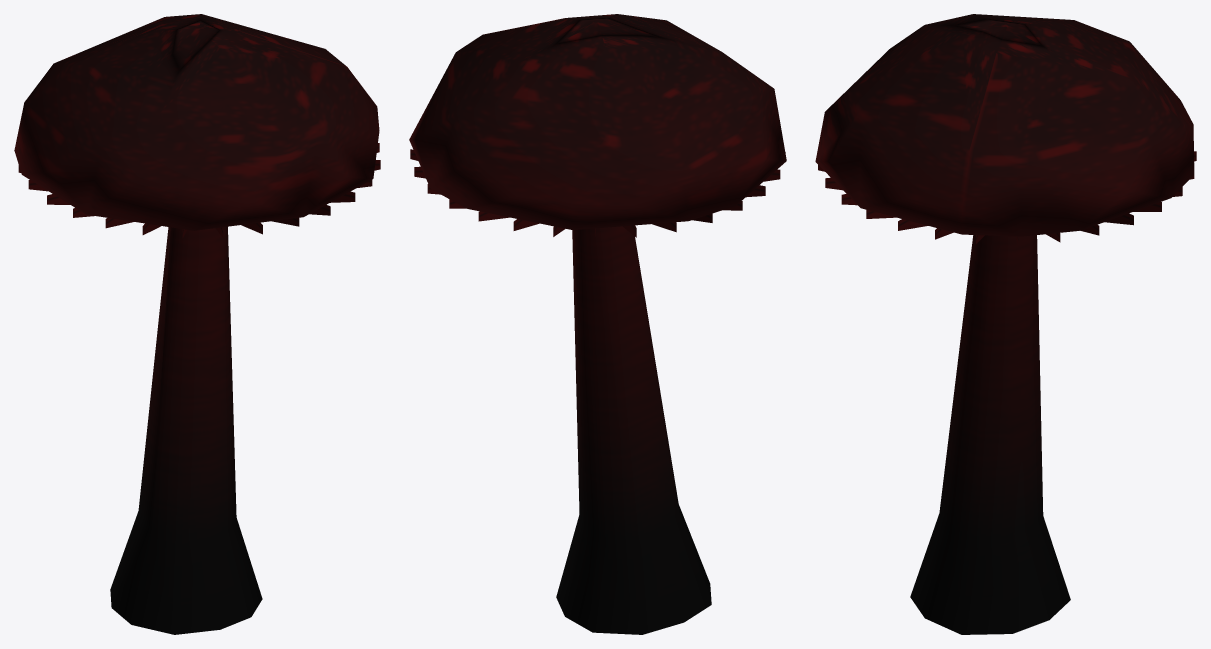
Rendered from plant_forest_mushroom_giant_a_lod2.glb.
The picture shows the model from 3 angles, left to right: view 1: azimuth 30°, elevation 25°; view 2: azimuth 150°, elevation 25°; view 3: azimuth 270°, elevation 25°; orthographic projection. The views are drawn at different scales.
Visible parts, largest first — view 1: plant_forest_mushroom_giant_a; view 2: plant_forest_mushroom_giant_a; view 3: plant_forest_mushroom_giant_a.
Boxes of the visible parts, left/top/right/bottom form: plant_forest_mushroom_giant_a: left=14, top=14, right=380, bottom=634; plant_forest_mushroom_giant_a: left=409, top=14, right=786, bottom=634; plant_forest_mushroom_giant_a: left=815, top=14, right=1196, bottom=634.
Bounding box in the file's own units: 0.8228 × 1.4 × 0.8228.
Materials: 1 (1 with a texture image).
